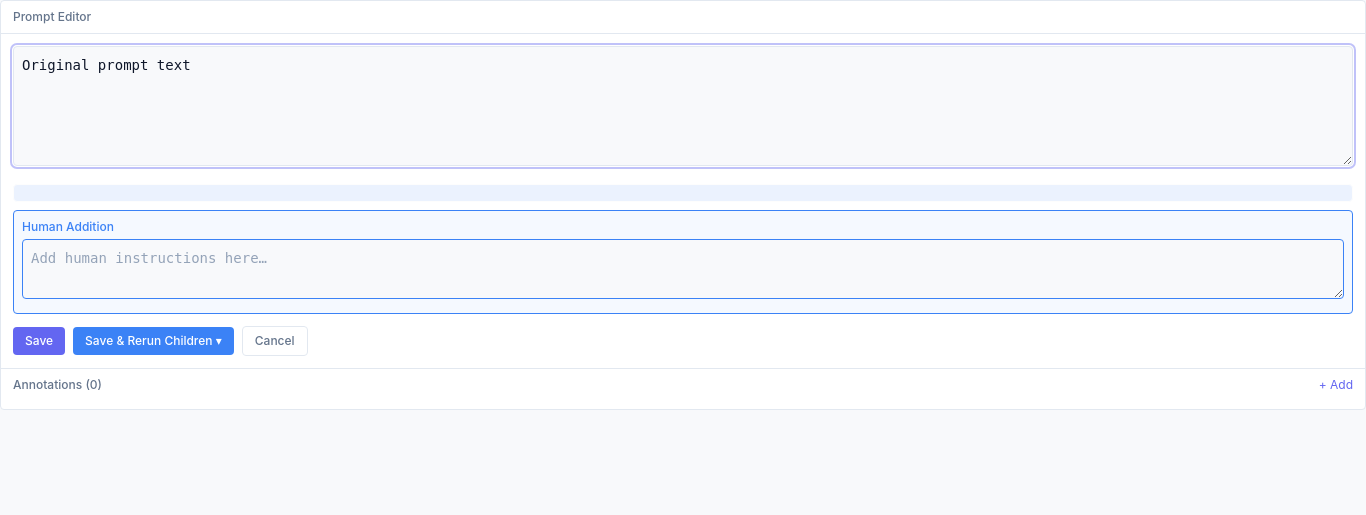
PromptEditor › shows rerun menu with 4 strategies
Click the button with test id "save-rerun-button": (153,341) [73,327,234,355]
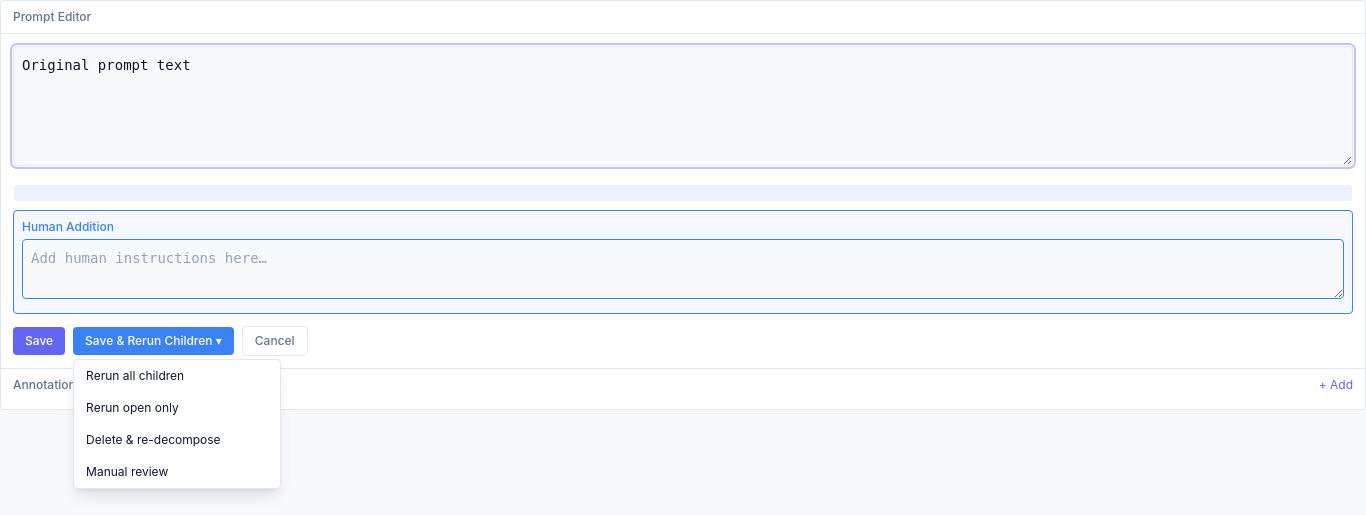
Check: the element with test id "rerun-menu" is shown, box [73,359,281,489]
Check: the button with test id "rerun-all" is shown, box [74,360,280,392]
Check: the button with test id "rerun-open_only" is shown, box [74,392,280,424]
